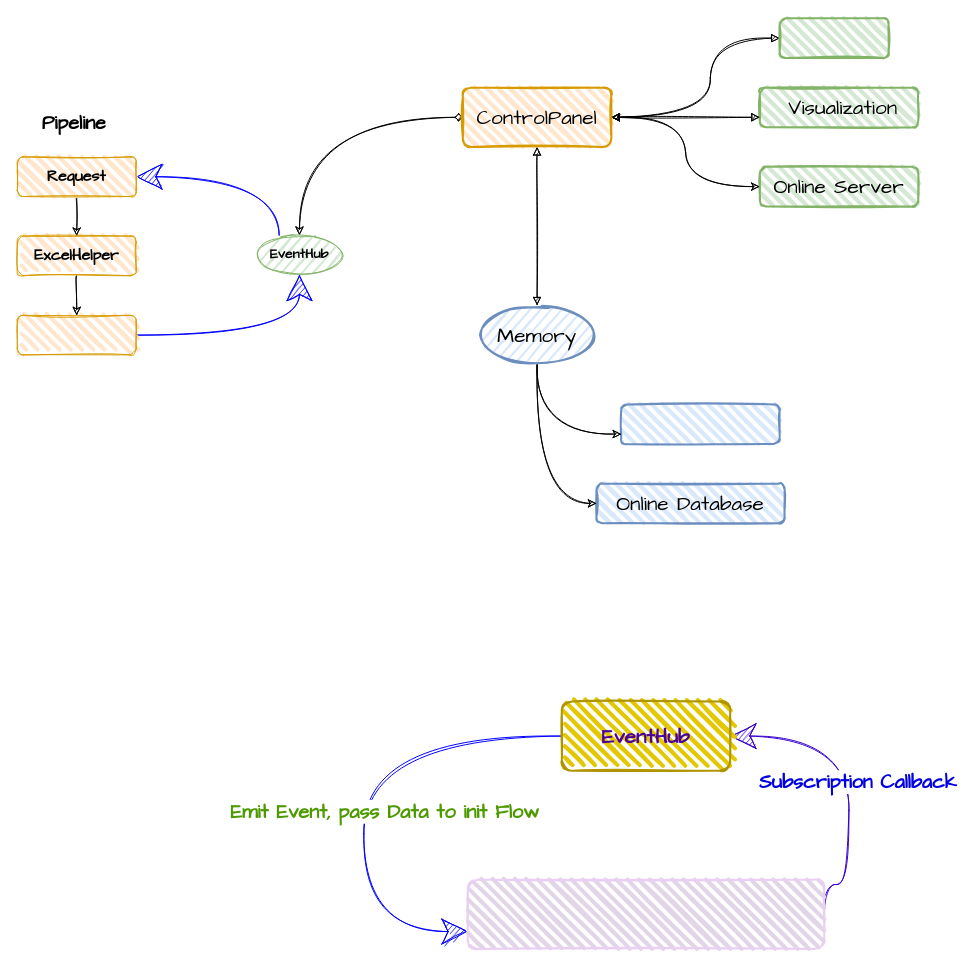
This 973x966 diagram has some shape labels left out. Each missing label, with the box of its shape:
Console: (778, 17, 889, 58)
indexedDB: (620, 403, 780, 445)
Other Plugins: (16, 314, 136, 355)
Rxjs Data Flow: (466, 878, 825, 949)
